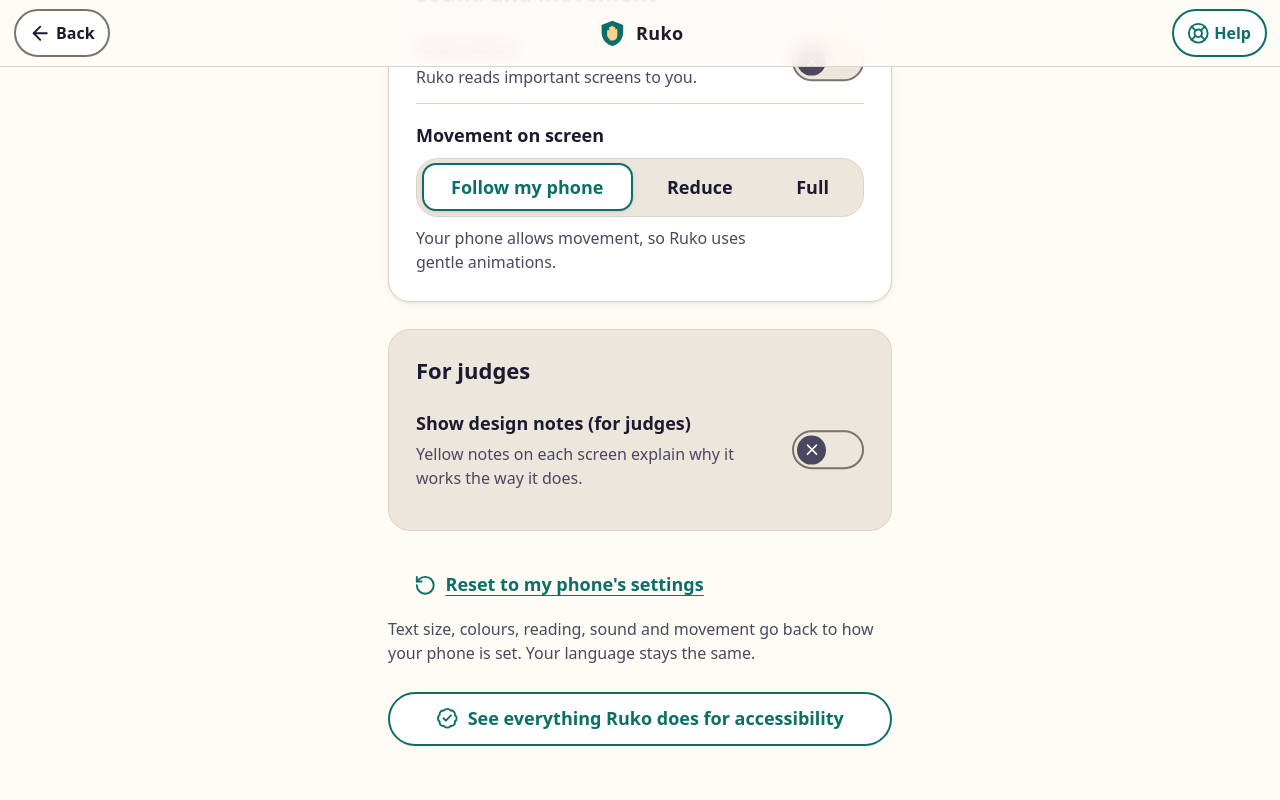
Test: /adapt — Adapt to me › says so when there is nothing to reset
This screenshot has width=1280, height=800.
(page scrolled)
Click the button "Reset to my phone's settings".
click(559, 585)  # box [388, 558, 730, 612]
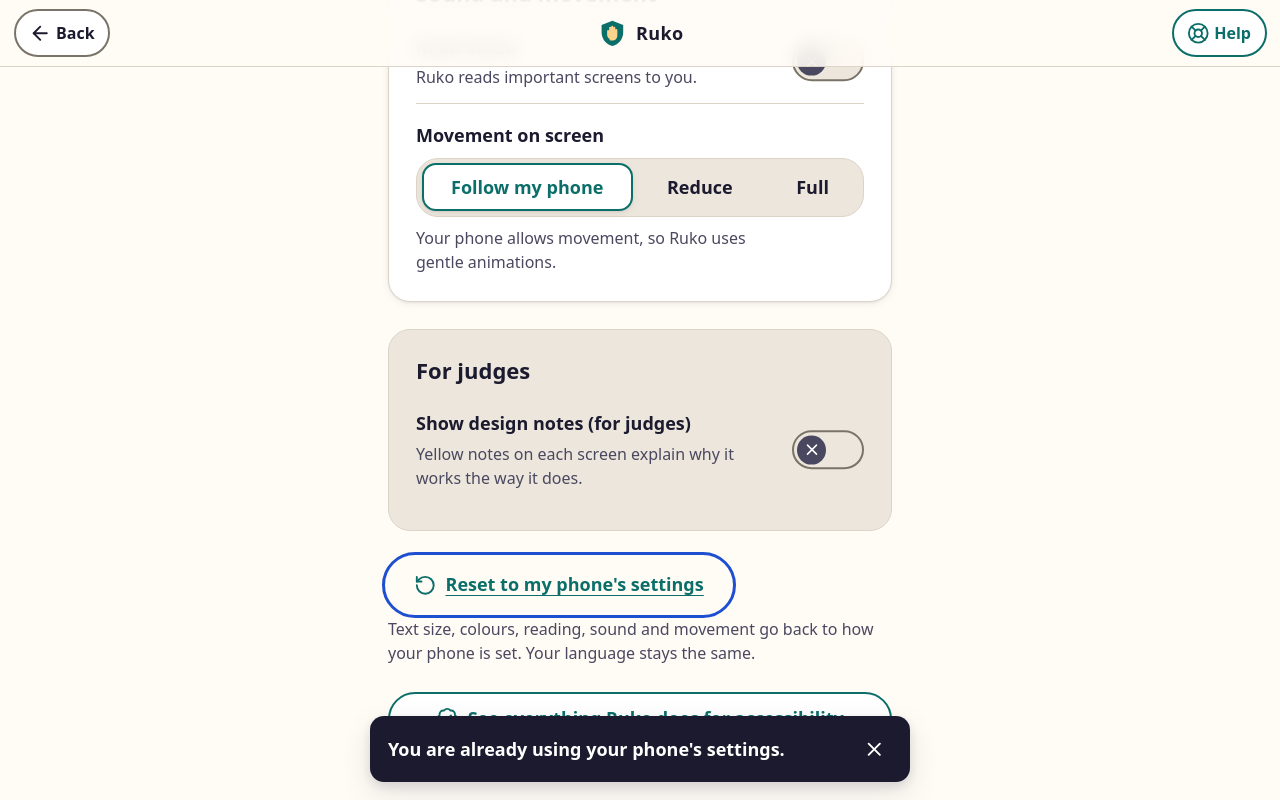
Now the text "You are already using your phone's settings." is shown, box [388, 736, 834, 762]
